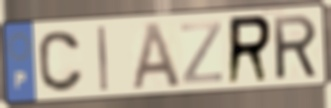A: (129, 19, 184, 93)
C: (36, 29, 86, 94)
I: (96, 24, 110, 94)
R: (225, 12, 274, 88), (270, 12, 320, 83)
Z: (180, 19, 224, 87)
